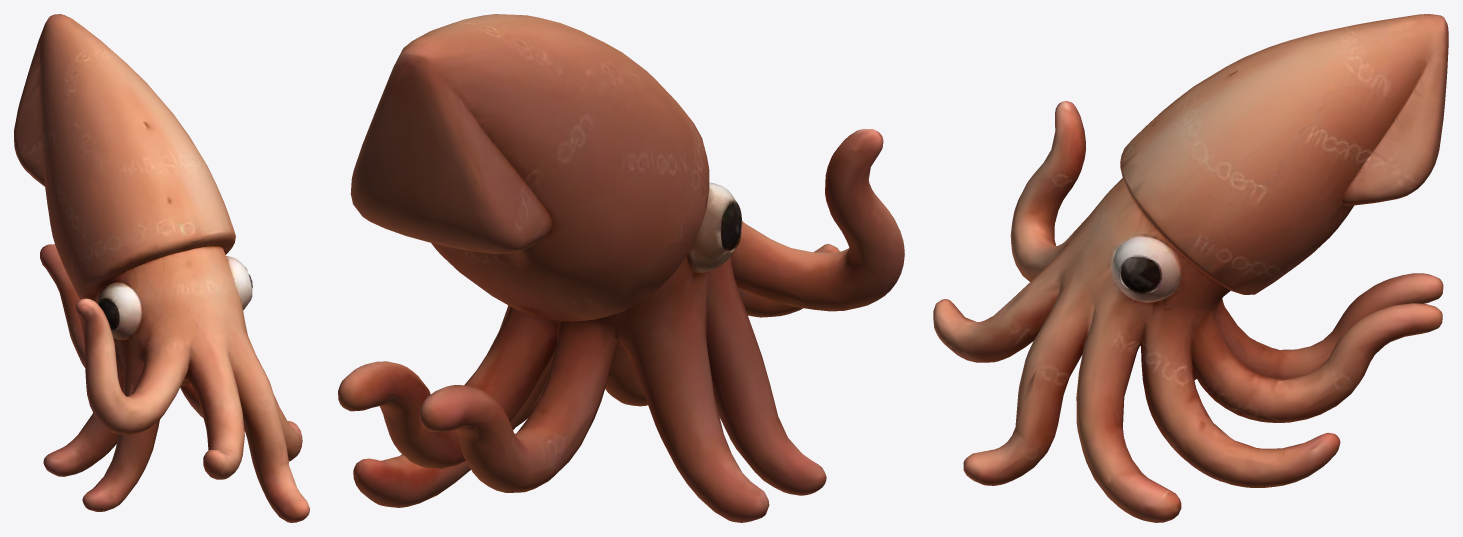
File: squid_pbr.glb
3 renders of one model, left to right at view 1: azimuth 30°, elevation 25°; view 2: azimuth 150°, elevation 25°; view 3: azimuth 270°, elevation 25°, orthographic. The views are drawn at different scales.
Visible parts, largest first — view 1: model; view 2: model; view 3: model.
Boxes of the visible parts, x1=… form: model: x1=14, y1=14, x2=309, y2=522; model: x1=338, y1=14, x2=904, y2=522; model: x1=933, y1=14, x2=1448, y2=522.
Bounding box in the file's own units: 1.26 × 1.73 × 1.82.
Materials: 1 (1 with a texture image).
